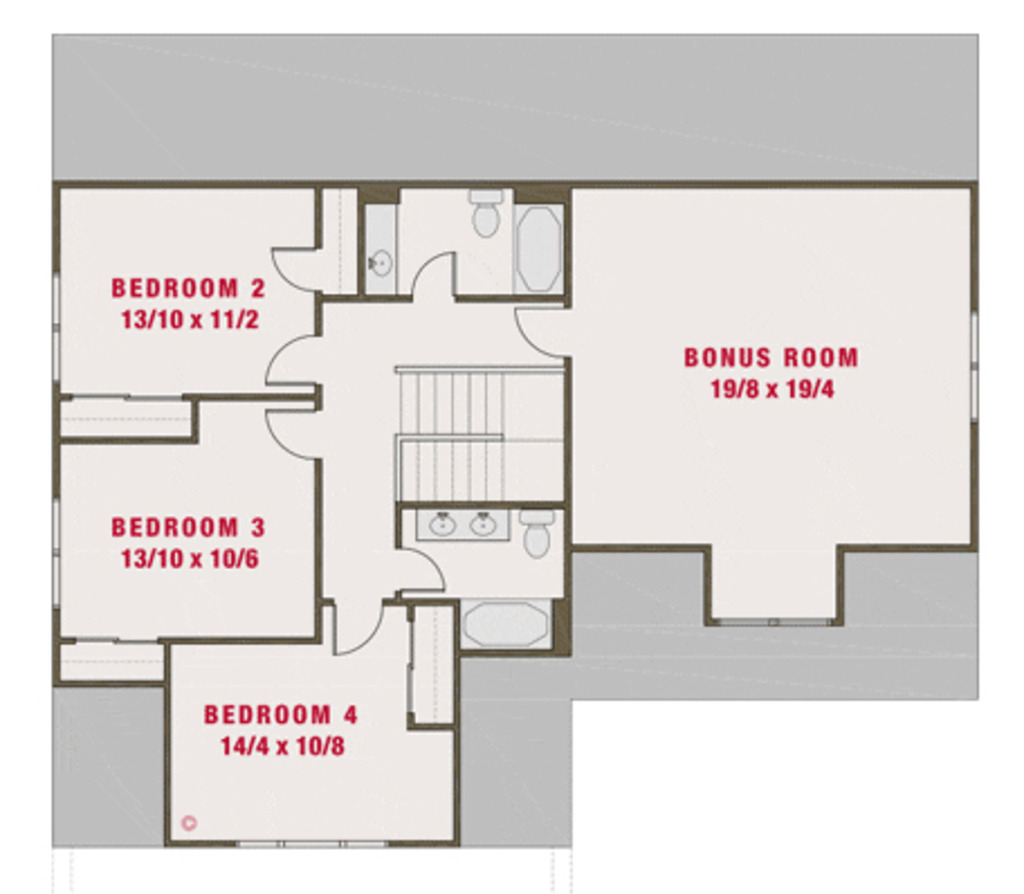door: (261, 334, 328, 386), (328, 600, 389, 657), (511, 307, 575, 361), (269, 240, 323, 300), (265, 405, 325, 459), (397, 544, 450, 594), (408, 252, 457, 301)
large_sink: (512, 501, 564, 562), (461, 186, 509, 243)
small_sink: (353, 240, 400, 286)
stairs: (380, 368, 512, 500)
tub: (516, 200, 568, 294), (462, 600, 559, 650)
twin_sink: (416, 512, 504, 544)
window: (969, 311, 978, 415), (240, 843, 386, 847), (54, 270, 58, 373), (722, 620, 833, 623), (55, 493, 57, 602)
